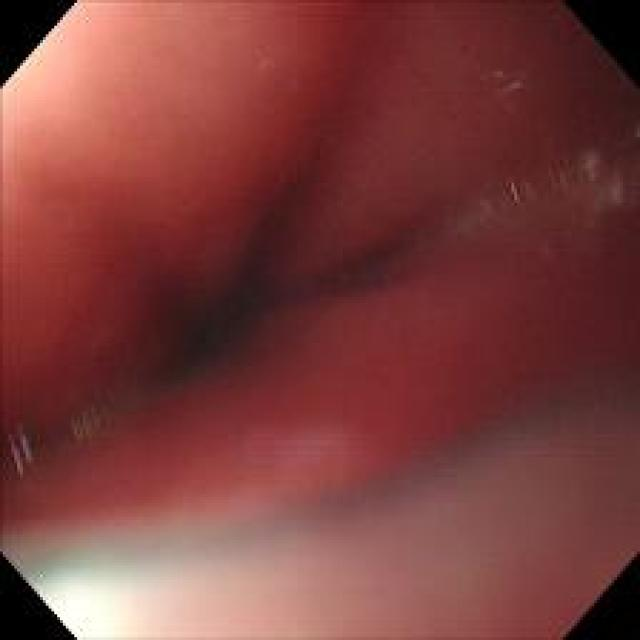blur: (2, 2, 635, 634)
color misalignment: (10, 515, 631, 631), (6, 411, 38, 476), (486, 60, 531, 100), (66, 401, 101, 446), (579, 145, 604, 182)
